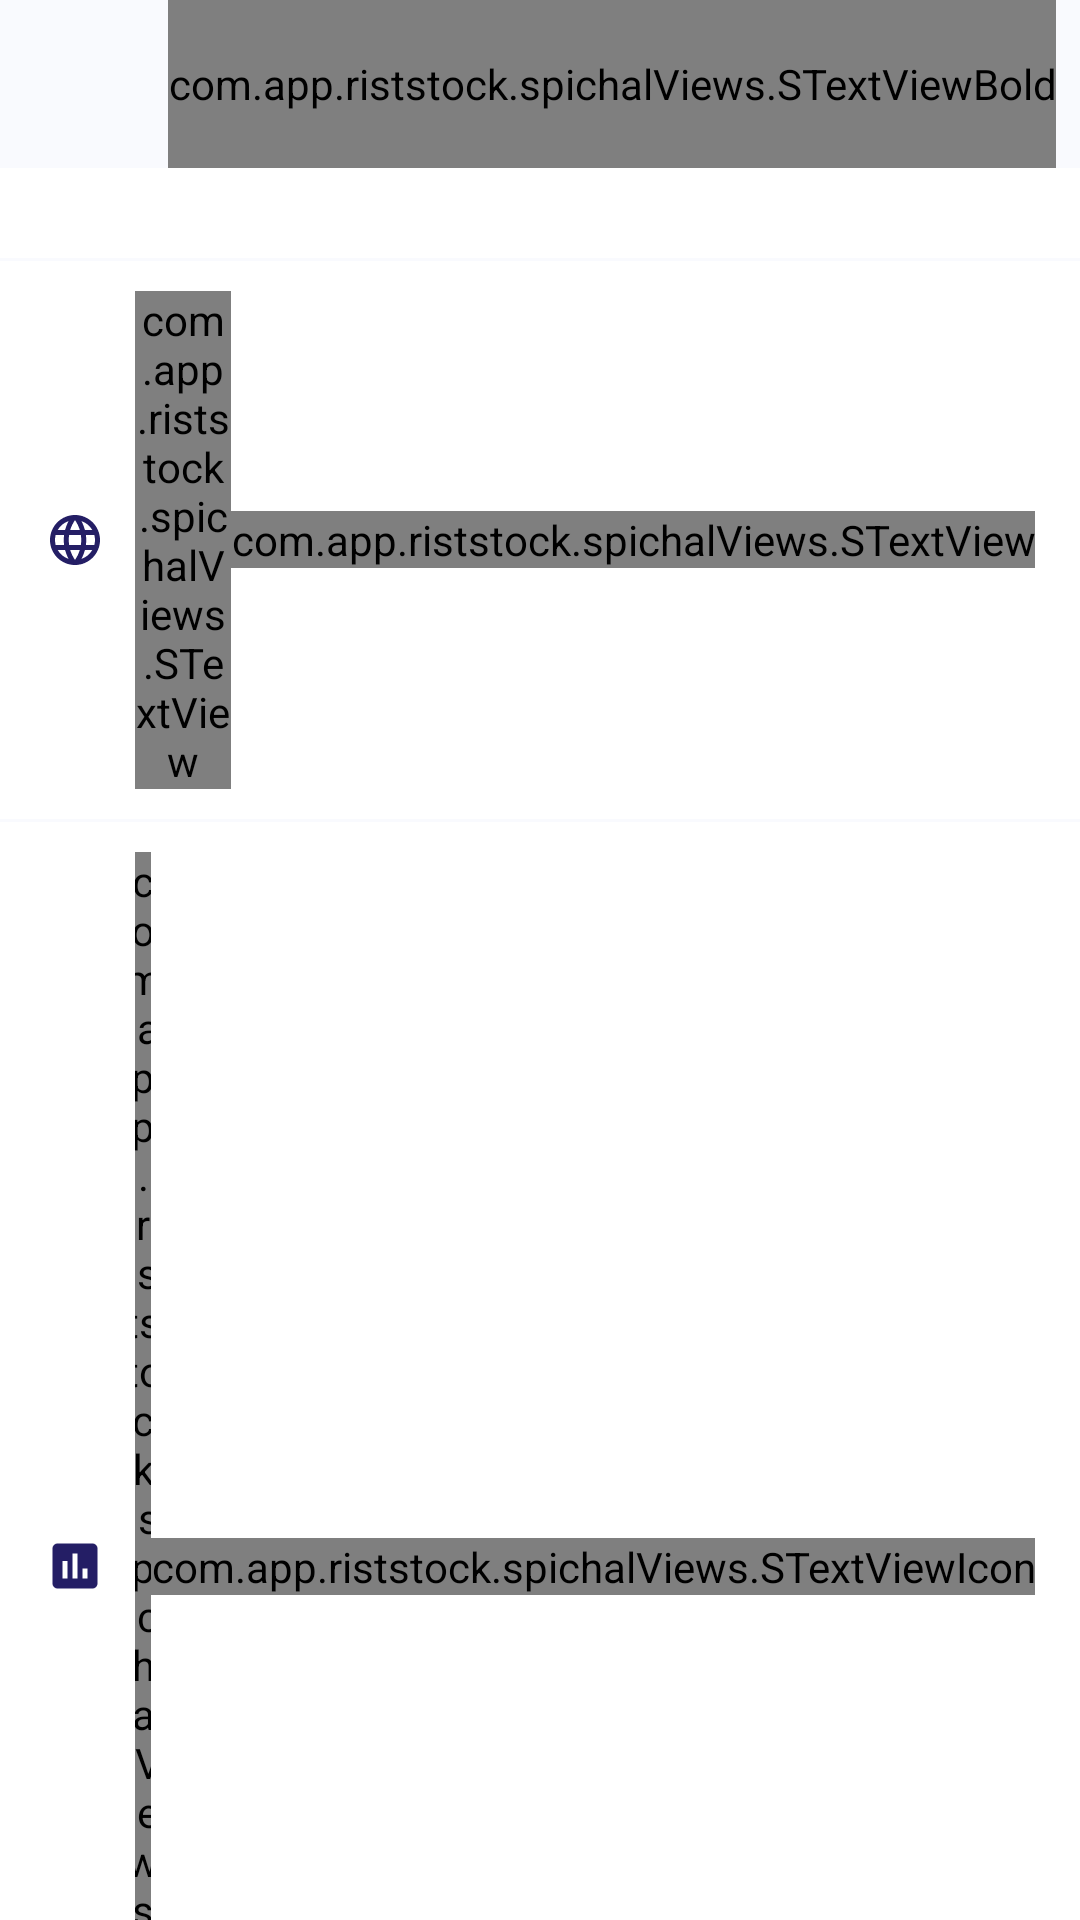

Icon click points for this 1080px×1920px phone screenshot, format [x,y]:
data: [75,1566]
lang: [75,540]
